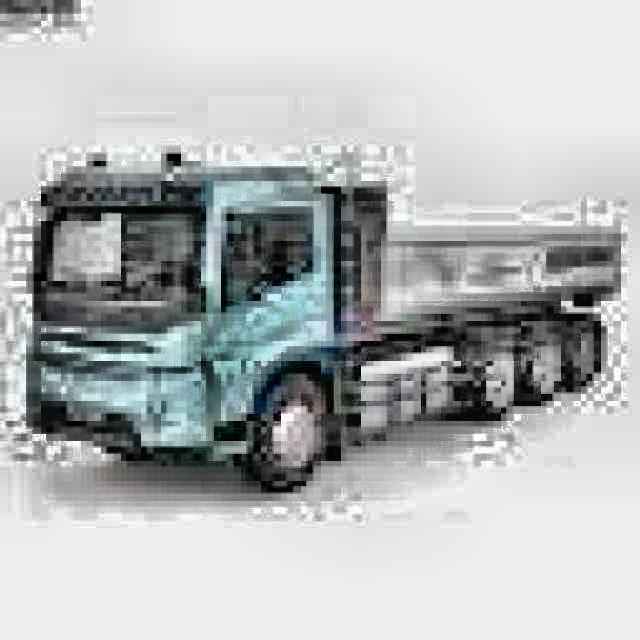dump_truck: (21, 128, 638, 516)
